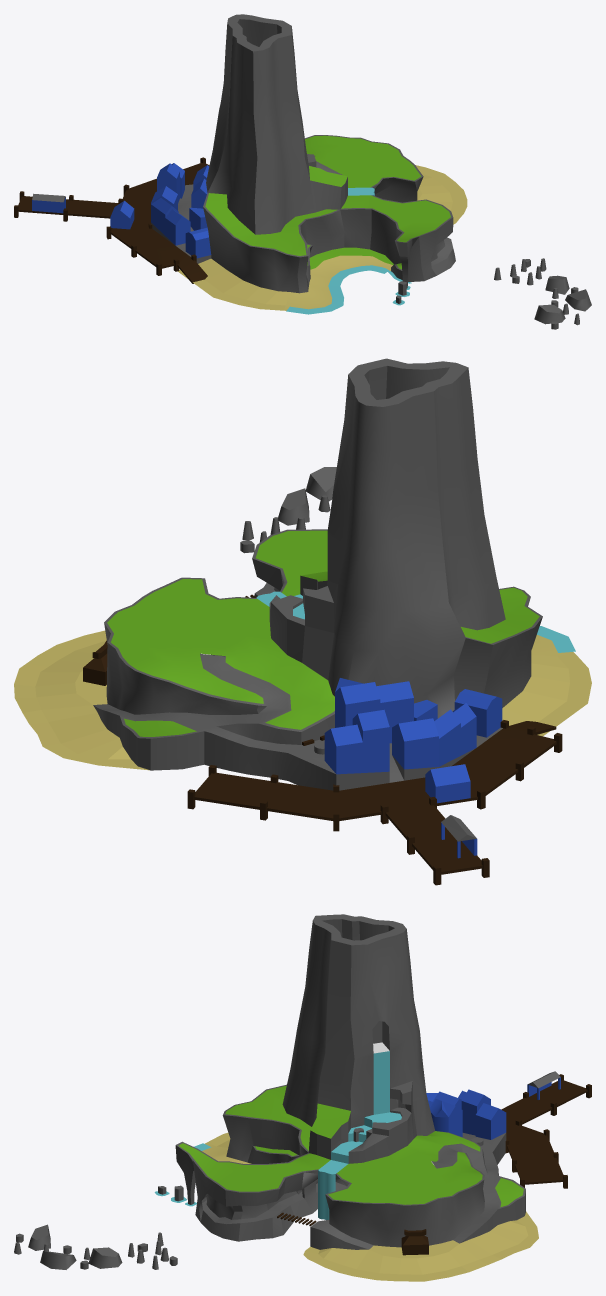
File: SM_BeachScene (4).fbx
The picture shows the model from 3 angles, top to bottom: view 1: azimuth 30°, elevation 25°; view 2: azimuth 150°, elevation 25°; view 3: azimuth 270°, elevation 25°; orthographic projection. The views are drawn at different scales.
Parts seen in each view (by area): view 1: Cliffs, Sand, Box006, Rocks, Box051, Box041, Box035, Waves2, Object001, Waves1, Box044, Cylinder010; view 2: Cliffs, Sand, Box006, Box042, Object001, Box040, Box043, Box035, Box041, Box045, Box044, Cylinder023 (+3 smaller); view 3: Cliffs, Sand, Box006, Plane002, Rocks, Box040, Box043, Object001, Box007, Cylinder023, Cylinder019.
Part boxes in pixels (x1,y1,x2,y2): Cliffs: [151, 14, 455, 293]; Sand: [178, 165, 467, 310]; Box006: [18, 162, 209, 283]; Rocks: [306, 177, 406, 303]; Box051: [165, 209, 190, 245]; Box041: [185, 227, 211, 258]; Box035: [110, 200, 134, 229]; Waves2: [286, 268, 387, 314]; Object001: [157, 163, 179, 203]; Waves1: [288, 265, 389, 311]; Box044: [151, 198, 178, 235]; Cylinder010: [534, 304, 565, 324]; Cliffs: [93, 358, 542, 790]; Sand: [14, 571, 591, 770]; Box006: [194, 721, 556, 874]; Box042: [392, 718, 438, 769]; Object001: [352, 709, 389, 772]; Box040: [324, 724, 362, 774]; Box043: [335, 678, 380, 727]; Box035: [425, 764, 470, 803]; Box041: [454, 689, 502, 737]; Box045: [376, 681, 413, 743]; Box044: [434, 709, 460, 766]; Cylinder023: [278, 488, 309, 525]; Cliffs: [175, 914, 525, 1249]; Sand: [202, 1086, 538, 1281]; Box006: [501, 1080, 587, 1184]; Plane002: [318, 1051, 401, 1219]; Rocks: [158, 1104, 330, 1201]; Box040: [475, 1103, 506, 1139]; Box043: [430, 1099, 462, 1136]; Object001: [461, 1089, 490, 1135]; Box007: [401, 1229, 428, 1255]; Cylinder023: [88, 1247, 122, 1268]; Cylinder019: [40, 1251, 76, 1269].
Size of what is drawn, in the model's own units: 10609 by 6047 by 13245.
